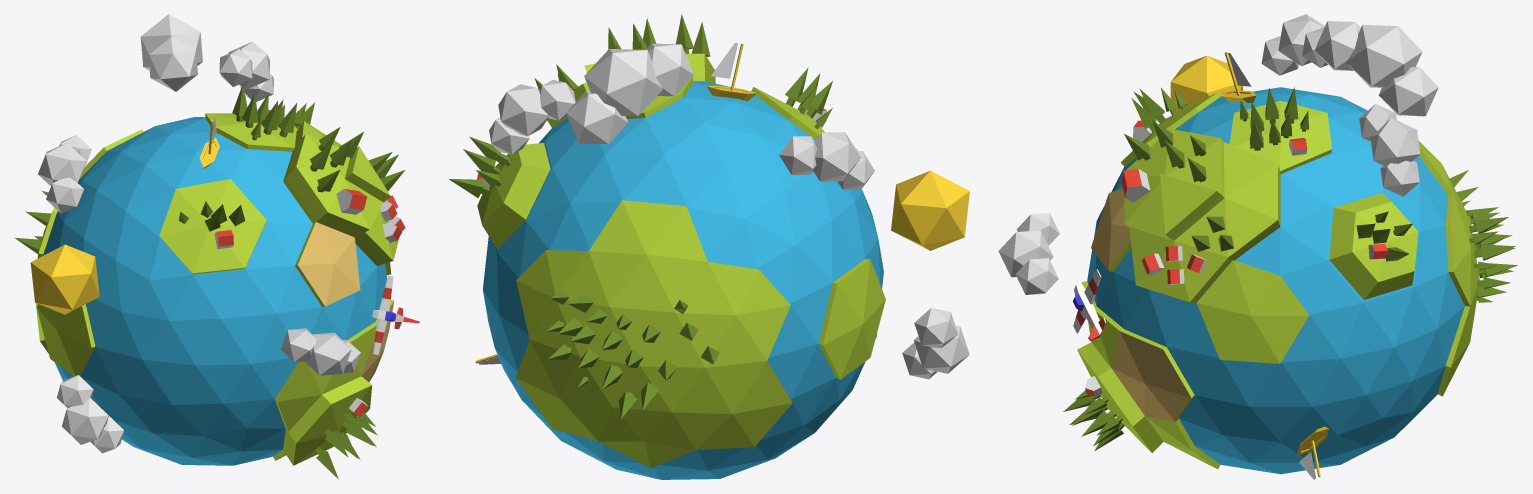
Rendered from nanoplanet.gltf.
The picture shows the model from 3 angles, left to right: view 1: azimuth 30°, elevation 25°; view 2: azimuth 150°, elevation 25°; view 3: azimuth 270°, elevation 25°; orthographic projection. The views are drawn at different scales.
Parts seen in each view (by area): view 1: Icosphere.001, Icosphere, Icosphere.007, Icosphere.006, Icosphere.005, Icosphere.002, Icosphere.003, Icosphere.004, Plane.066, Plane.055, Plane.064; view 2: Icosphere, Icosphere.001, Icosphere.006, Icosphere.007, Icosphere.004, Icosphere.002, Icosphere.005, Plane.064; view 3: Icosphere.001, Icosphere, Icosphere.006, Icosphere.004, Icosphere.003, Icosphere.002, Icosphere.007, Plane.066, Plane.065, Plane.064, Plane.055.
Boxes of the visible parts, x1,y1,x2,y2 form: Icosphere.001: (43, 117, 386, 465); Icosphere: (35, 113, 399, 465); Icosphere.007: (30, 244, 99, 314); Icosphere.006: (140, 14, 202, 91); Icosphere.005: (57, 375, 123, 453); Icosphere.002: (38, 135, 91, 213); Icosphere.003: (280, 328, 360, 375); Icosphere.004: (219, 41, 273, 101); Plane.066: (372, 275, 419, 354); Plane.055: (336, 189, 367, 214); Plane.064: (199, 117, 219, 168); Icosphere: (477, 53, 885, 468); Icosphere.001: (483, 81, 883, 479); Icosphere.006: (566, 43, 693, 144); Icosphere.007: (891, 170, 969, 250); Icosphere.004: (489, 79, 575, 154); Icosphere.002: (779, 132, 874, 189); Icosphere.005: (902, 308, 969, 379); Plane.064: (706, 43, 757, 100); Icosphere.001: (1087, 87, 1464, 474); Icosphere: (1077, 92, 1479, 469); Icosphere.006: (1314, 21, 1438, 116); Icosphere.004: (1359, 104, 1420, 196); Icosphere.003: (998, 213, 1059, 294); Icosphere.002: (1261, 14, 1327, 75); Icosphere.007: (1170, 55, 1242, 112); Plane.066: (1073, 269, 1105, 341); Plane.065: (1296, 426, 1328, 479); Plane.064: (1221, 52, 1256, 102); Plane.055: (1121, 168, 1150, 202).
Size of the model in its own units: 2.5 by 2.51 by 2.73.
